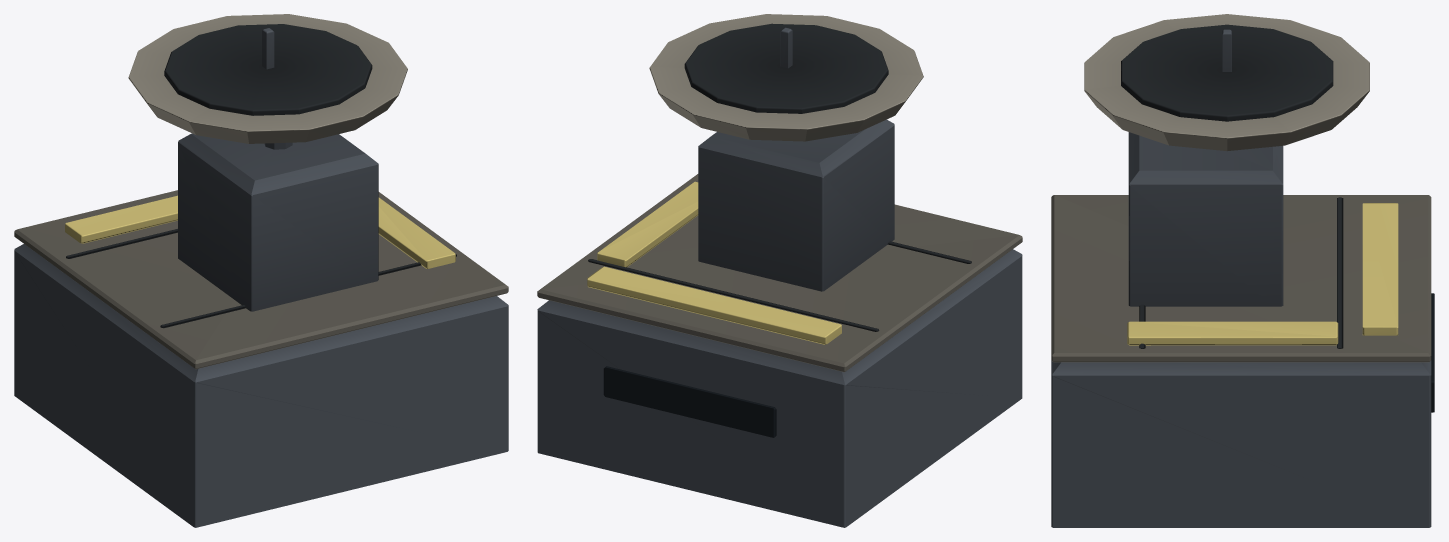
The model's file is radar_center.glb.
3 renders of one model, left to right at view 1: azimuth 30°, elevation 25°; view 2: azimuth 150°, elevation 25°; view 3: azimuth 270°, elevation 25°, orthographic. The views are drawn at different scales.
Parts seen in each view (by area): view 1: Body; view 2: Body; view 3: Body.
Part boxes in pixels (x1,y1,x2,y2): Body: [14, 14, 508, 527]; Body: [537, 14, 1022, 527]; Body: [1051, 14, 1434, 527].
Size of the model in its own units: 5.4 by 6.55 by 5.45.
